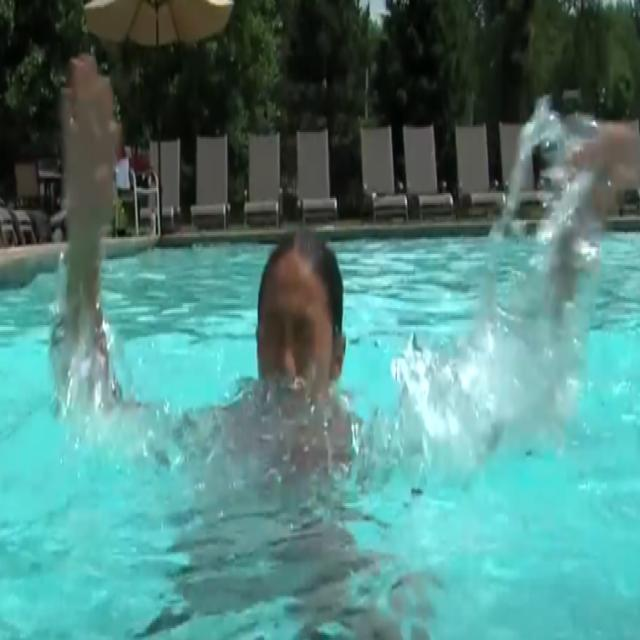Drowning: (30, 12, 639, 616)
